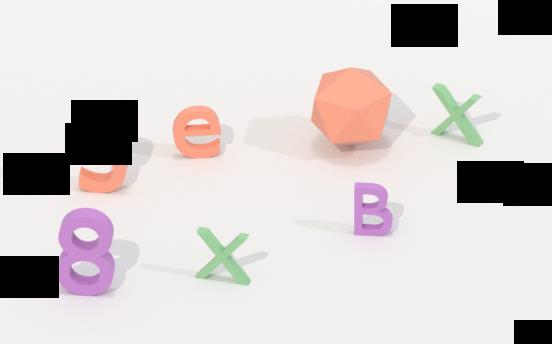3: (77, 103, 129, 195)
8: (53, 204, 123, 299)
b: (350, 177, 395, 240)
dagiac: (310, 64, 393, 149)
e: (170, 102, 224, 162)
x: (196, 220, 255, 290), (427, 81, 486, 149)
